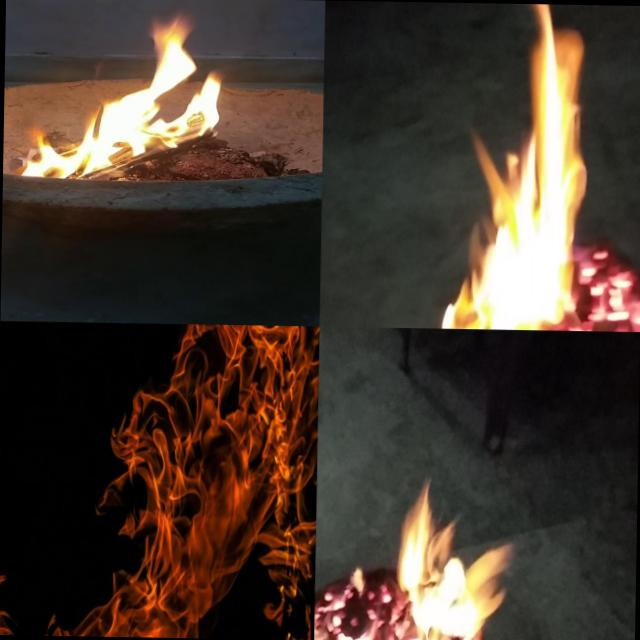fire: (0, 320, 318, 640), (414, 2, 592, 330), (17, 0, 235, 182), (383, 461, 518, 640), (313, 548, 382, 640), (590, 226, 640, 331)
